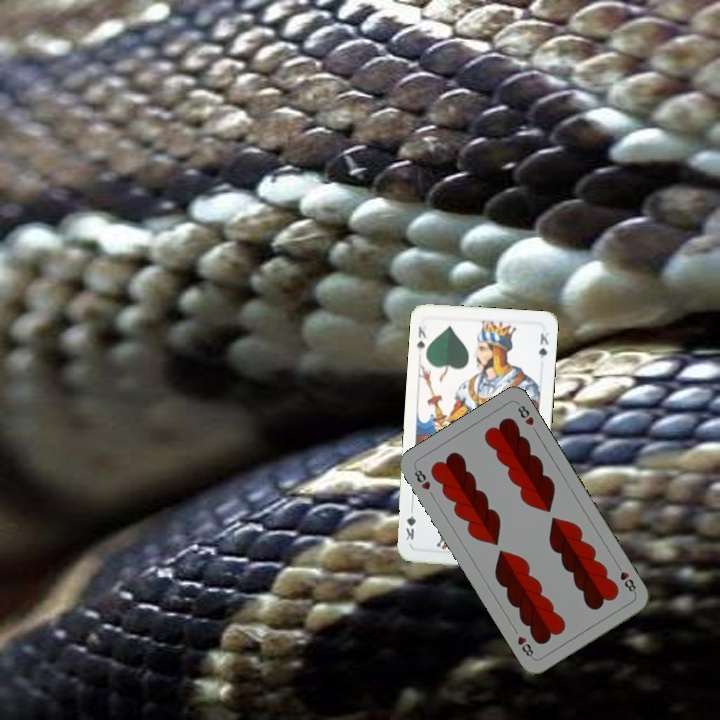GK: (413, 323, 430, 355)
H8: (612, 560, 639, 596), (410, 463, 433, 493)
